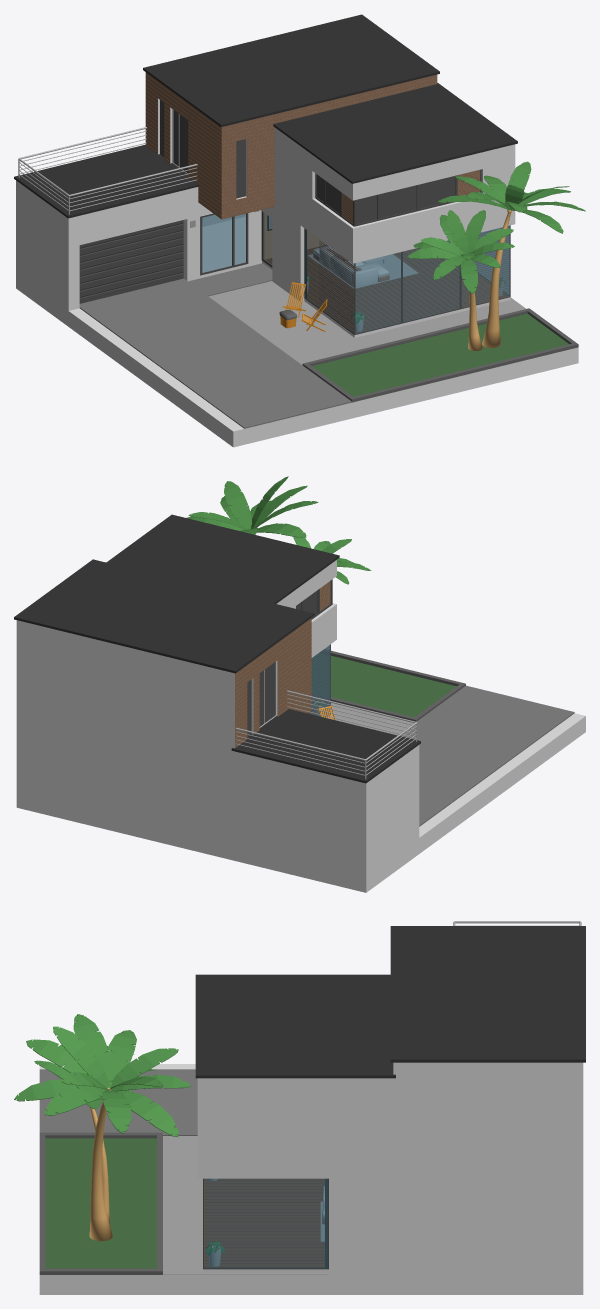
The model's file is medium_home.glb.
3 views of the same model, one above another, from view 1: azimuth 30°, elevation 25°; view 2: azimuth 150°, elevation 25°; view 3: azimuth 270°, elevation 25° (orthographic). The views are drawn at different scales.
Parts seen in each view (by area): view 1: Base, Plane.001, Glass, Wood, Floor, Plane.002, Plane.004, Fence, low_poly_interior.193, Plane, Interior, Door; view 2: Base, Plane.001, Wood, Plane.004, Fence, Glass, Plane.002; view 3: Base, Plane.001, Plane.004, Glass, Floor, Plane.002, Fence.
Part boxes in pixels (x1,y1,x2,y2): Base: (14,14,517,337); Plane.001: (16,225,578,447); Glass: (304,225,510,334); Wood: (145,72,437,219); Floor: (266,245,510,332); Plane.002: (407,210,514,350); Plane.004: (437,161,585,347); Fence: (18,127,197,214); low_poly_interior.193: (313,246,389,287); Plane: (308,254,417,288); Interior: (264,213,503,323); Door: (261,211,272,267); Base: (14,514,420,876); Plane.001: (16,650,585,892); Wood: (235,618,311,747); Plane.004: (186,476,318,537); Fence: (236,690,417,779); Glass: (308,644,330,717); Plane.002: (293,536,371,584); Base: (195,926,585,1274); Plane.001: (39,1064,583,1294); Plane.004: (14,1014,190,1241); Glass: (203,1178,328,1269); Floor: (204,1178,324,1267); Plane.002: (34,1046,156,1225); Fence: (453,921,581,925).
Bounding box in the file's own units: 16.29 × 7.9 × 17.35.
Materials: 69 (3 with a texture image).
